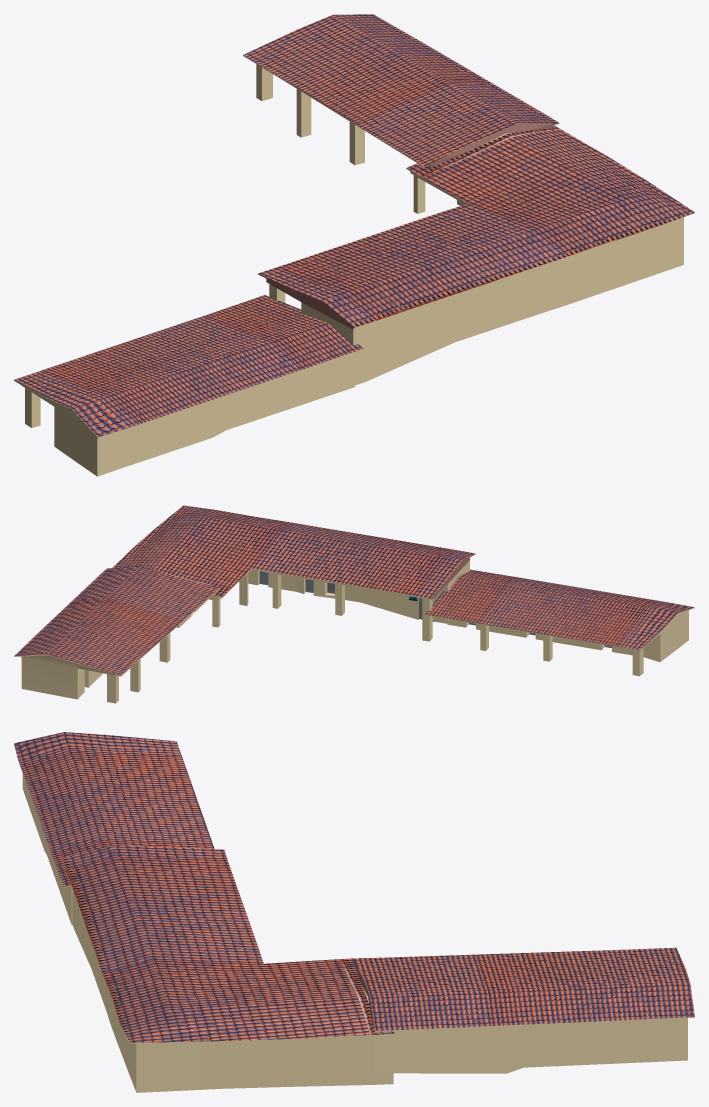
File: bloque_8_corregido.fbx
3 views of the same model, one above another, from view 1: azimuth 30°, elevation 25°; view 2: azimuth 150°, elevation 25°; view 3: azimuth 270°, elevation 25° (orthographic). The views are drawn at different scales.
Parts seen in each view (by area): view 1: polySurface1938, polySurface1937, polySurface2310; view 2: polySurface1938, polySurface2310, polySurface1937; view 3: polySurface1938, polySurface2310, polySurface1937.
Boxes of the visible parts, x1,y1,x2,y2 form: polySurface1938: [258, 125, 694, 385]; polySurface1937: [14, 295, 363, 476]; polySurface2310: [243, 14, 559, 167]; polySurface1938: [112, 505, 475, 641]; polySurface2310: [14, 565, 219, 703]; polySurface1937: [425, 569, 694, 676]; polySurface1938: [62, 845, 394, 1092]; polySurface2310: [353, 947, 694, 1073]; polySurface1937: [14, 732, 214, 924].
Size of the model in its own units: 6.3 by 0.7681 by 5.56.
